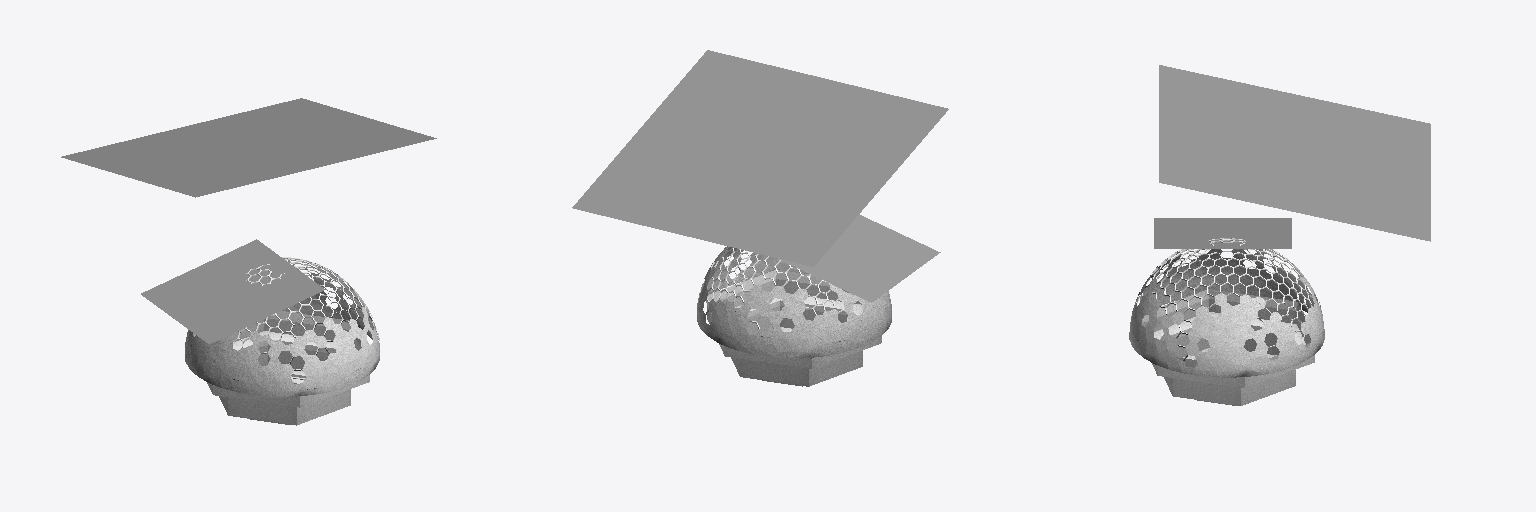
3 views of the same model, side by side, from view 1: azimuth 30°, elevation 25°; view 2: azimuth 150°, elevation 25°; view 3: azimuth 270°, elevation 25° (orthographic).
Parts seen in each view (by area): view 1: Plane.001, Icosphere_Icosphere.001, Plane, Circle, Icosphere.001_Icosphere.000; view 2: Plane.001, Icosphere_Icosphere.001, Circle, Plane, Icosphere.001_Icosphere.000; view 3: Plane.001, Icosphere_Icosphere.001, Circle, Plane, Icosphere.001_Icosphere.000.
Part boxes in pixels (left/top/right/bottom): Plane.001: left=61, top=98, right=436, bottom=197; Icosphere_Icosphere.001: left=185, top=267, right=379, bottom=396; Plane: left=141, top=239, right=325, bottom=343; Circle: left=193, top=311, right=369, bottom=425; Icosphere.001_Icosphere.000: left=233, top=257, right=379, bottom=370; Plane.001: left=572, top=50, right=948, bottom=266; Icosphere_Icosphere.001: left=697, top=246, right=891, bottom=357; Circle: left=706, top=270, right=881, bottom=386; Plane: left=777, top=214, right=940, bottom=302; Icosphere.001_Icosphere.000: left=700, top=248, right=843, bottom=328; Plane.001: left=1159, top=65, right=1430, bottom=241; Icosphere_Icosphere.001: left=1129, top=249, right=1324, bottom=377; Circle: left=1142, top=289, right=1314, bottom=405; Plane: left=1154, top=218, right=1291, bottom=248; Icosphere.001_Icosphere.000: left=1137, top=238, right=1320, bottom=360.
Bounding box in the file's own units: 129 × 135 × 140.
7 materials, 3 textured.